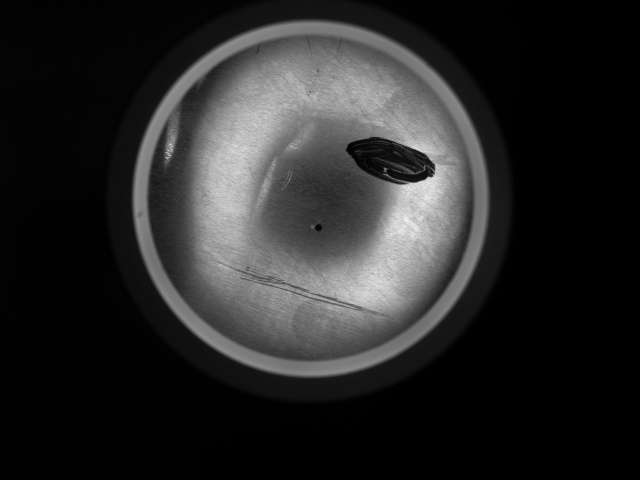ca_shang: (197, 252, 403, 322)
zang_wu: (344, 132, 437, 185)
zhen_kong: (309, 219, 332, 235)
